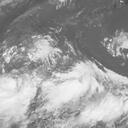cyclone: (41, 45, 94, 96)
